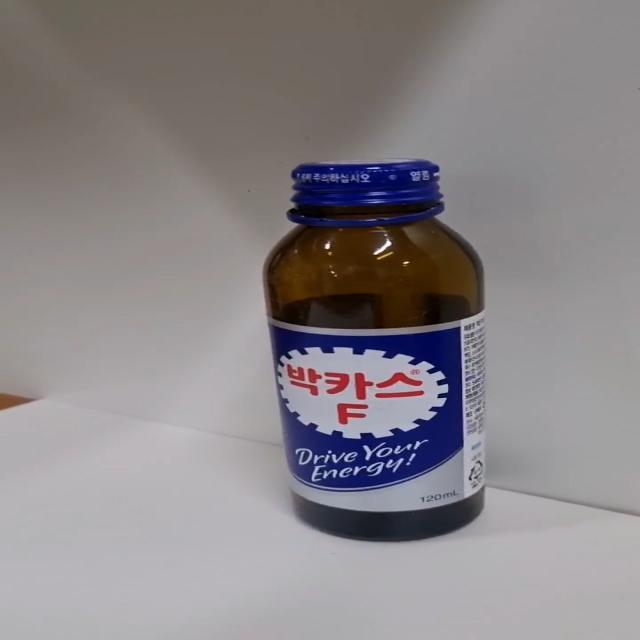Glass: (262, 160, 489, 540)
